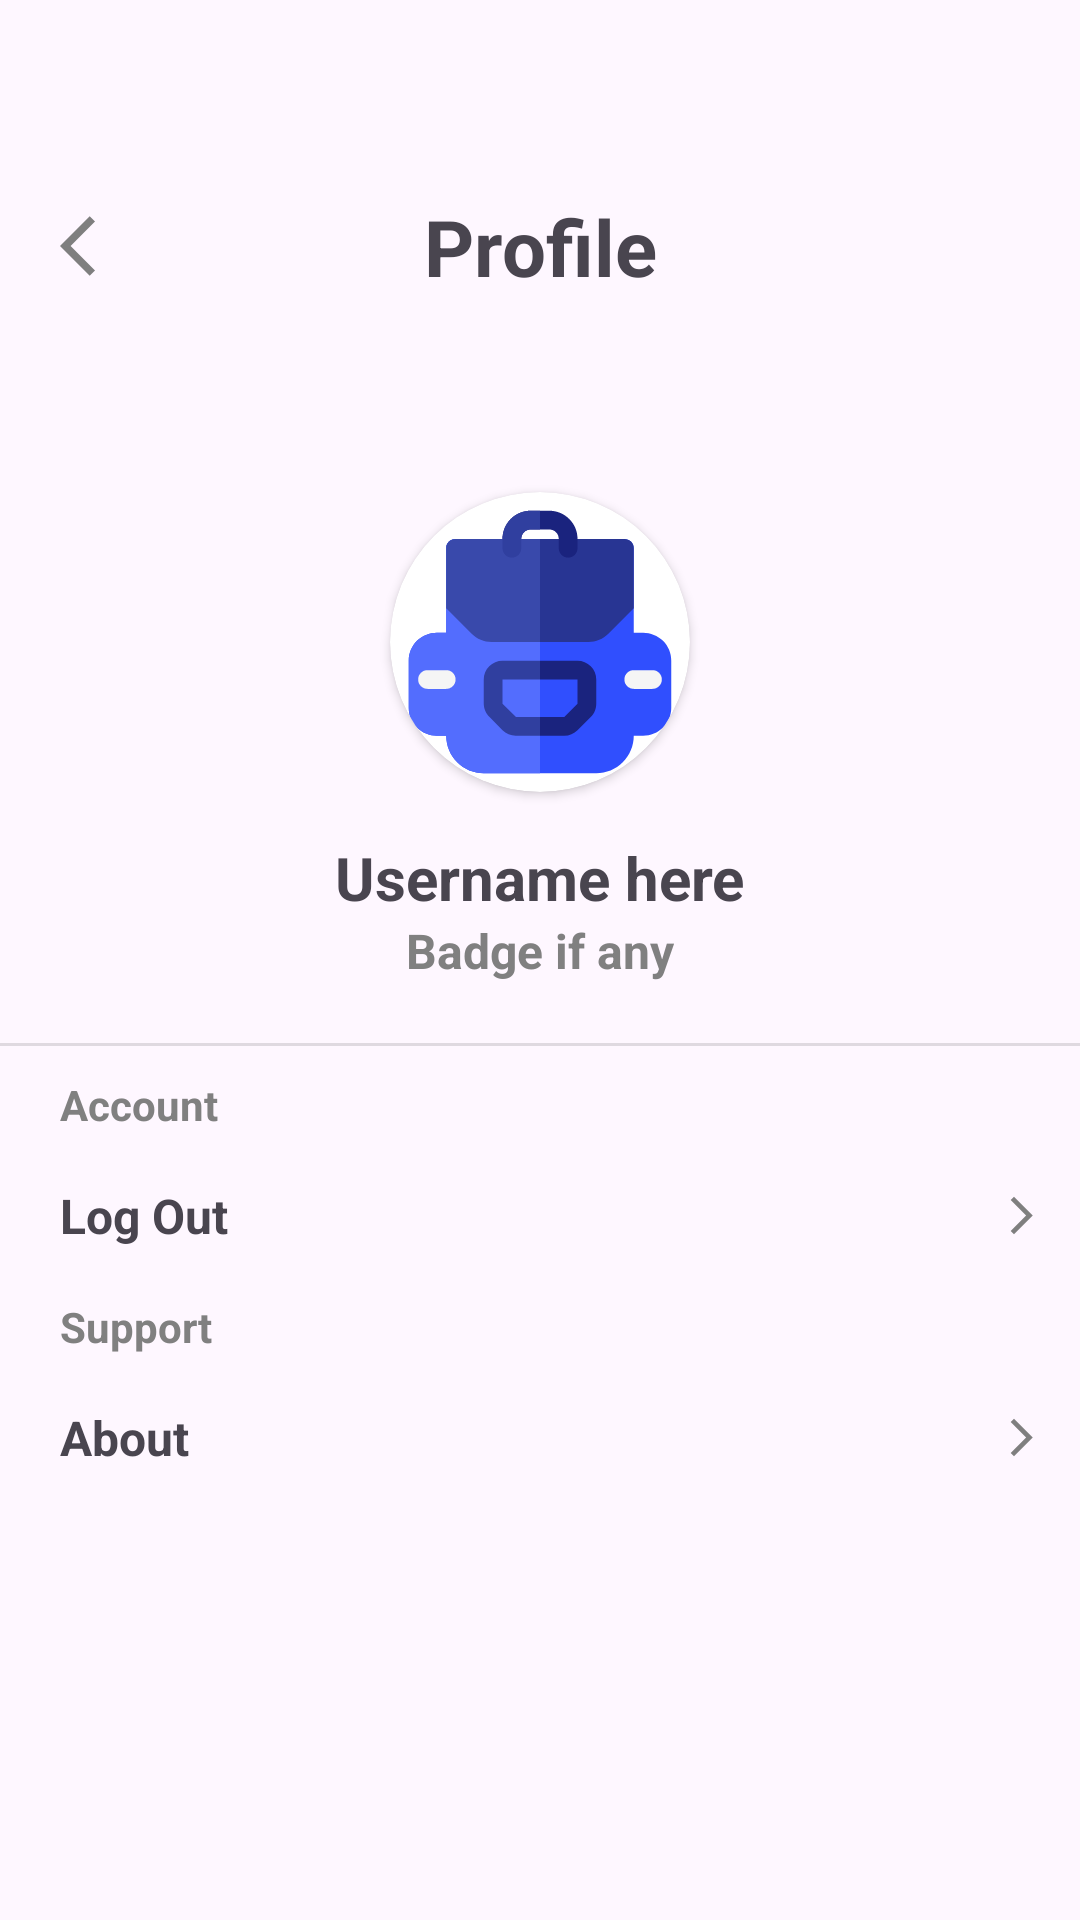

Named icons in this screenshot (1080x1920) and their centers, [x,y]:
arrow back: [77,246]
arrow forward: [1022,1215], [1022,1437]
bagpack: [540,651]
